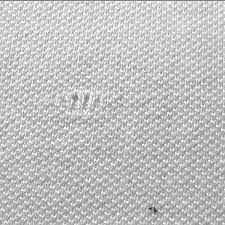Hole: (49, 85, 119, 129), (136, 199, 176, 221)
